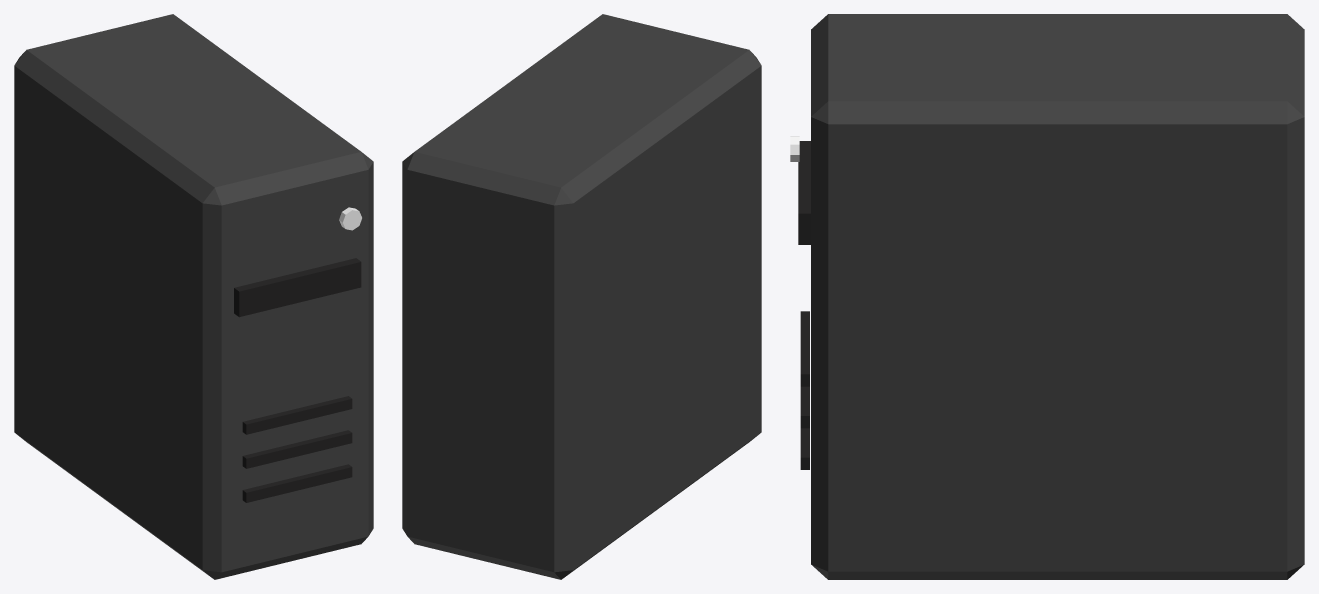
The picture shows the model from 3 angles, left to right: view 1: azimuth 30°, elevation 25°; view 2: azimuth 150°, elevation 25°; view 3: azimuth 270°, elevation 25°; orthographic projection. The views are drawn at different scales.
Visible parts, largest first — view 1: Tower, Drive, Vent.001, Vent.002, Vent; view 2: Tower; view 3: Tower, Drive, Vent.002.
Part boxes in pixels (box(x1,y1,x2,y2)): Tower: box(14, 14, 373, 579); Drive: box(234, 258, 361, 317); Vent.001: box(242, 430, 352, 468); Vent.002: box(242, 396, 352, 434); Vent: box(242, 464, 352, 502); Tower: box(402, 14, 761, 579); Tower: box(811, 14, 1304, 579); Drive: box(798, 141, 810, 244); Vent.002: box(800, 311, 809, 386).
Size of the model in its own units: 0.21 by 0.46 by 0.448.
1 material, 1 textured.
